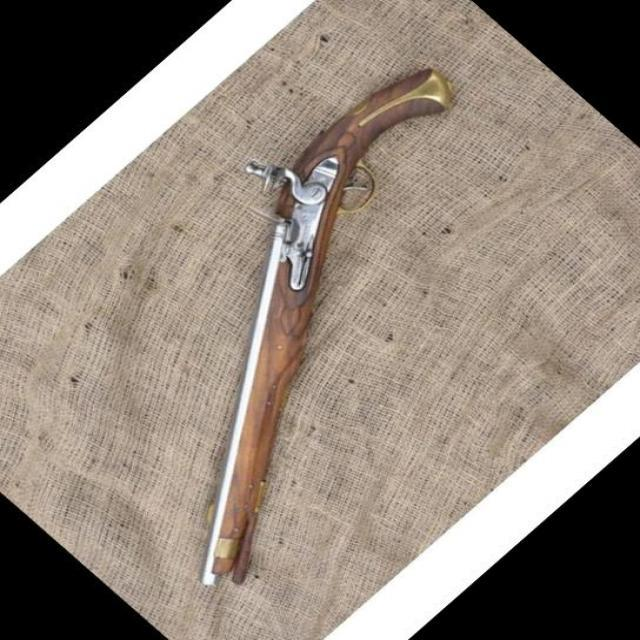weapon: (198, 65, 453, 590)
